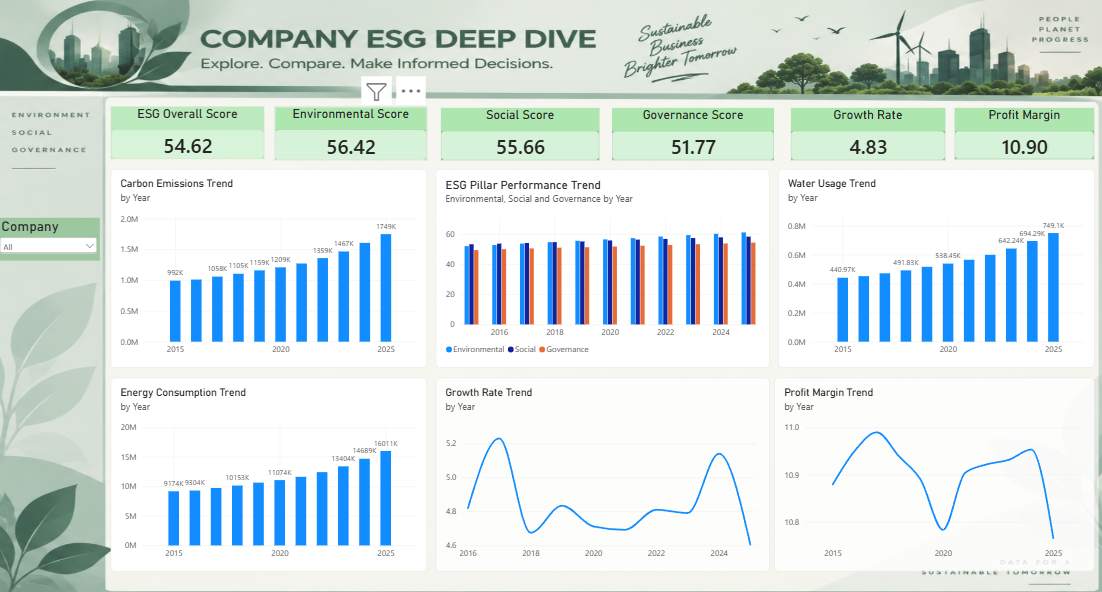

This screenshot's page, from the dashboard's own definition file:
{"tool":"powerbi","page":{"name":"Page 2","canvas":[1920,1080],"ordinal":1},"visuals":[{"type":"slicer","fields":{"Values":["company_esg_financial_dataset.CompanyName"]},"box":[0,379.8,178.7,74.5],"z":4000},{"type":"cardVisual","title":"ESG Overall Score","fields":{"Data":["Avg(company_esg_financial_dataset.ESG_Overall)"]},"box":[197.4,186.2,266.3,91.2],"z":5000},{"type":"cardVisual","title":"Environmental Score","fields":{"Data":["Avg(company_esg_financial_dataset.ESG_Environmental)"]},"box":[482.2,186.2,264.4,93.1],"z":6000},{"type":"cardVisual","title":"Governance Score","fields":{"Data":["Avg(company_esg_financial_dataset.ESG_Governance)"]},"box":[1066.9,188.1,281.2,91.2],"z":7000},{"type":"cardVisual","title":"Social Score","fields":{"Data":["Avg(company_esg_financial_dataset.ESG_Social)"]},"box":[770.8,188.1,275.6,91.2],"z":8000},{"type":"cardVisual","title":"Growth Rate","fields":{"Data":["Avg(company_esg_financial_dataset.GrowthRate)"]},"box":[1377.3,188.7,268.1,91.2],"z":9000},{"type":"cardVisual","title":"Profit Margin","fields":{"Data":["Avg(company_esg_financial_dataset.ProfitMargin)"]},"box":[1660.8,188.1,242.1,89.4],"z":10000},{"type":"lineChart","fields":{"Category":["company_esg_financial_dataset.Year"],"Y":["Avg(company_esg_financial_dataset.ProfitMargin)"]},"box":[1349.1,657.2,555.3,336.2],"z":11000},{"type":"lineChart","fields":{"Category":["company_esg_financial_dataset.Year"],"Y":["Avg(company_esg_financial_dataset.GrowthRate)"]},"box":[761.3,657.2,579.1,336.2],"z":12000},{"type":"clusteredColumnChart","fields":{"Category":["company_esg_financial_dataset.Year"],"Y":["Avg(company_esg_financial_dataset.EnergyConsumption)"]},"box":[197.4,657.2,548.8,336.2],"z":13000},{"type":"clusteredColumnChart","fields":{"Category":["company_esg_financial_dataset.Year"],"Y":["Avg(company_esg_financial_dataset.WaterUsage)"]},"box":[1355.6,295,548.8,344.9],"z":14000},{"type":"clusteredColumnChart","fields":{"Category":["company_esg_financial_dataset.Year"],"Y":["Avg(company_esg_financial_dataset.CarbonEmissions)"]},"box":[197.4,295,548.8,344.9],"z":15000},{"type":"clusteredColumnChart","title":"ESG Pillar Performance Trend","fields":{"Category":["company_esg_financial_dataset.Year"],"Y":["Avg(company_esg_financial_dataset.ESG_Environmental)","Avg(company_esg_financial_dataset.ESG_Social)","Avg(company_esg_financial_dataset.ESG_Governance)"]},"box":[761.3,295,579.1,344.9],"z":16000}]}

Visuals, with their boxes on the page's 1920x1080 design canvas (x1, y1, x2, y2). These are canvas units, not pixel positions in the 1102x592 screenshot, which may show the page scaled, cropped or inside an application window:
slicer - company_esg_financial_dataset.CompanyName: BBox(0, 380, 179, 454)
"ESG Overall Score" cardVisual: BBox(197, 186, 464, 277)
"Environmental Score" cardVisual: BBox(482, 186, 747, 279)
"Governance Score" cardVisual: BBox(1067, 188, 1348, 279)
"Social Score" cardVisual: BBox(771, 188, 1046, 279)
"Growth Rate" cardVisual: BBox(1377, 189, 1645, 280)
"Profit Margin" cardVisual: BBox(1661, 188, 1903, 278)
lineChart - company_esg_financial_dataset.Year x Avg(company_esg_financial_dataset.ProfitMargin): BBox(1349, 657, 1904, 993)
lineChart - company_esg_financial_dataset.Year x Avg(company_esg_financial_dataset.GrowthRate): BBox(761, 657, 1340, 993)
clusteredColumnChart - company_esg_financial_dataset.Year x Avg(company_esg_financial_dataset.EnergyConsumption): BBox(197, 657, 746, 993)
clusteredColumnChart - company_esg_financial_dataset.Year x Avg(company_esg_financial_dataset.WaterUsage): BBox(1356, 295, 1904, 640)
clusteredColumnChart - company_esg_financial_dataset.Year x Avg(company_esg_financial_dataset.CarbonEmissions): BBox(197, 295, 746, 640)
"ESG Pillar Performance Trend" clusteredColumnChart: BBox(761, 295, 1340, 640)
